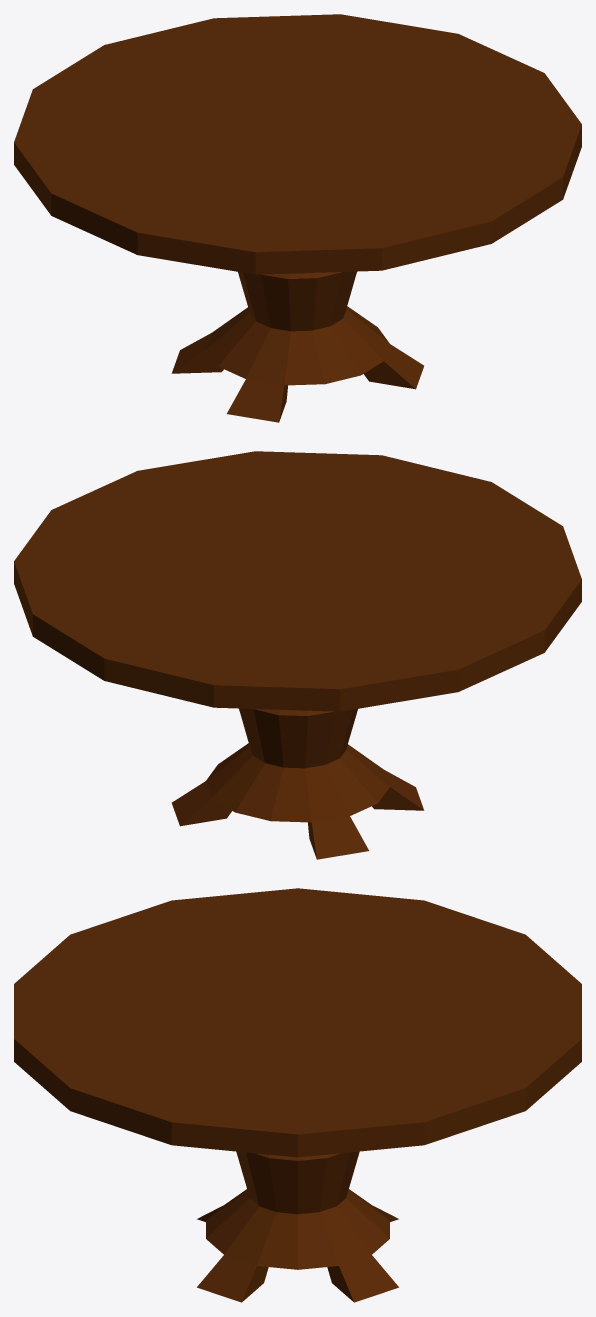
Rendered from saloontable.fbx.
3 renders of one model, top to bottom at view 1: azimuth 30°, elevation 25°; view 2: azimuth 150°, elevation 25°; view 3: azimuth 270°, elevation 25°, orthographic. The views are drawn at different scales.
Visible parts, largest first — view 1: pCylinder1; view 2: pCylinder1; view 3: pCylinder1.
Part boxes in pixels (x1,y1,x2,y2): pCylinder1: (14, 14, 581, 422); pCylinder1: (14, 451, 581, 859); pCylinder1: (14, 888, 581, 1302).
Size of the model in its own units: 7.33 by 3.36 by 7.15.
